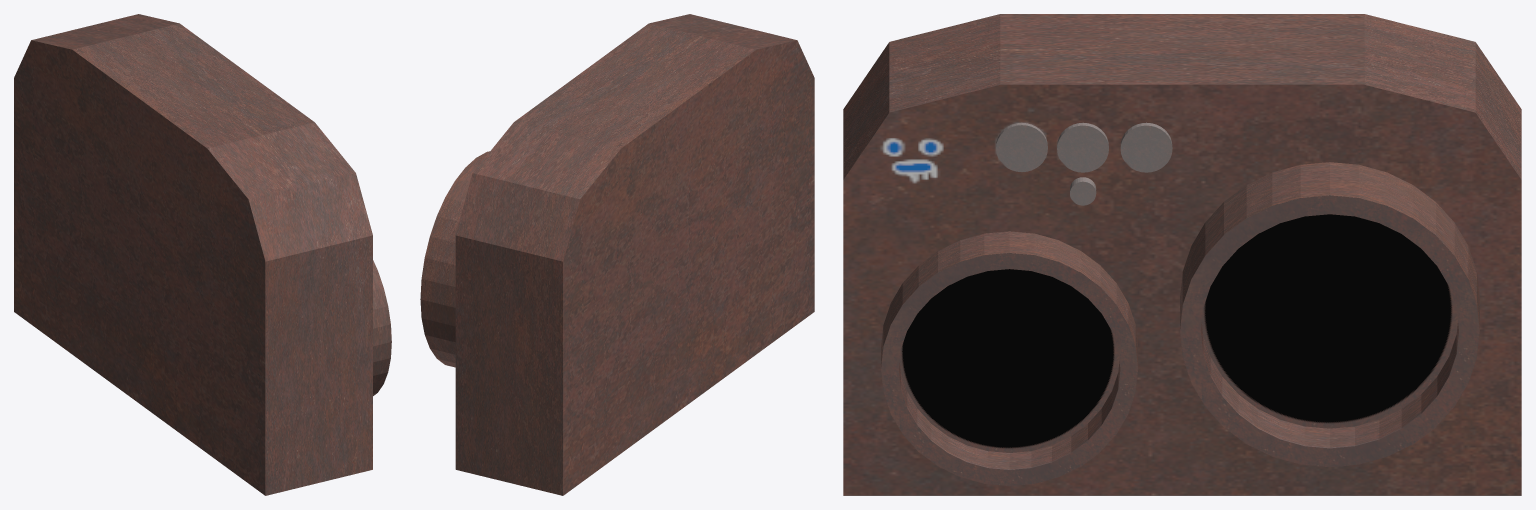
The model's file is Vidas.glb.
3 renders of one model, left to right at view 1: azimuth 30°, elevation 25°; view 2: azimuth 150°, elevation 25°; view 3: azimuth 270°, elevation 25°, orthographic. The views are drawn at different scales.
Visible parts, largest first — view 1: Cylinder; view 2: Cylinder; view 3: Cylinder.
Boxes of the visible parts, x1,y1,x2,y2 form: Cylinder: (14,14,391,495); Cylinder: (420,14,814,495); Cylinder: (843,14,1521,495).
Size of the model in its own units: 4.57 by 8.42 by 12.58.
1 material, 1 textured.
